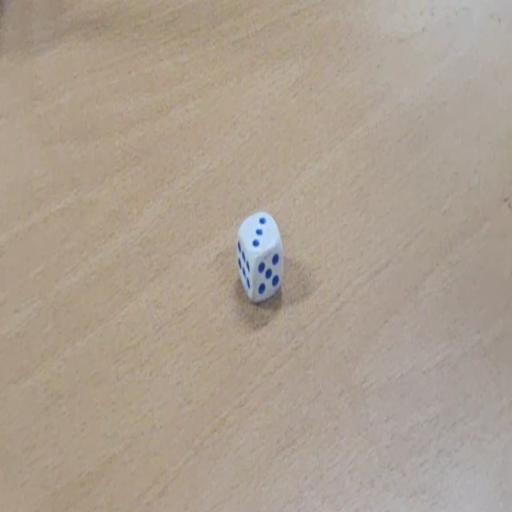dice_3: (236, 210, 284, 306)
